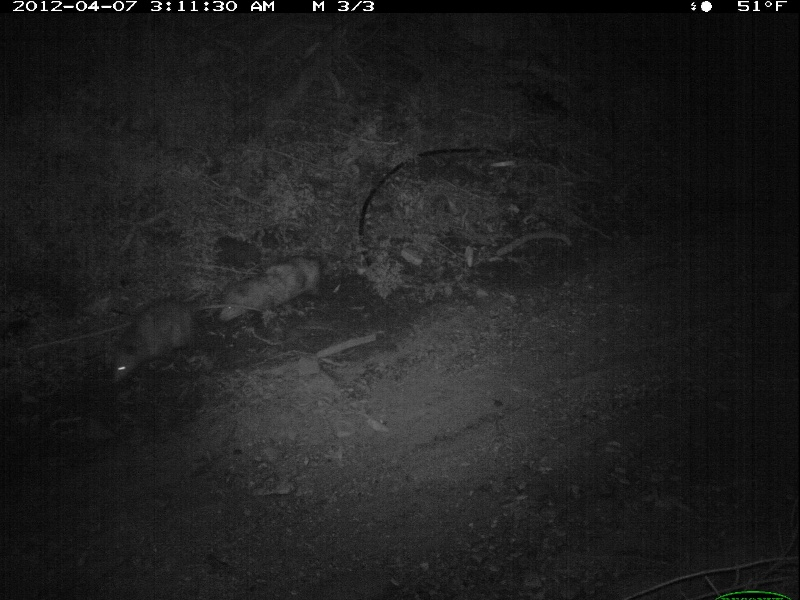opossum: (219, 252, 342, 334), (109, 297, 207, 376)
